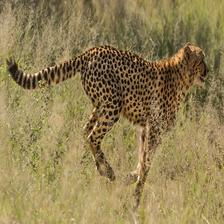Cheetah: (6, 44, 212, 210)
